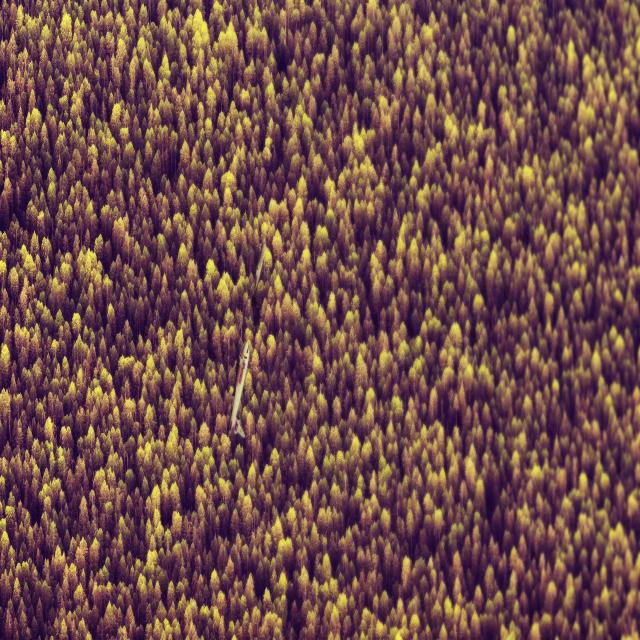airplane: (229, 339, 250, 438), (252, 237, 268, 291)
